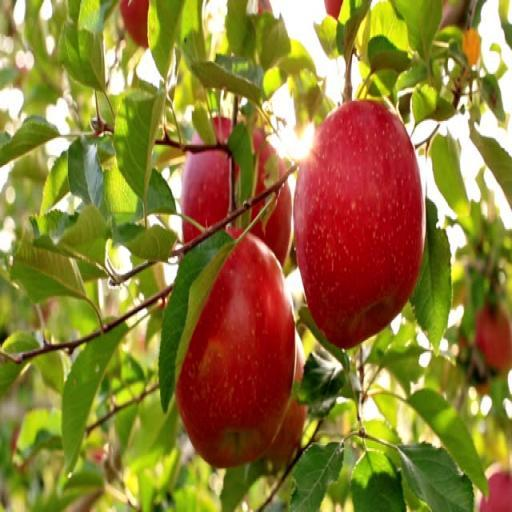apple: (294, 100, 425, 348), (176, 234, 295, 467)
